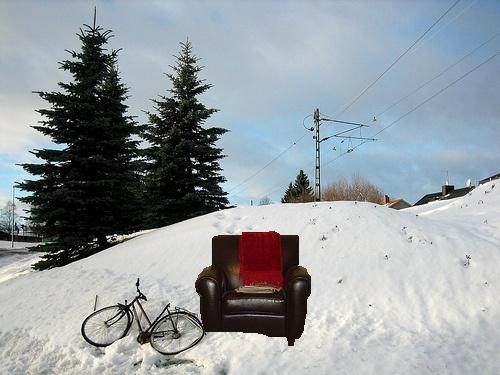tampered: (196, 232, 311, 346)
